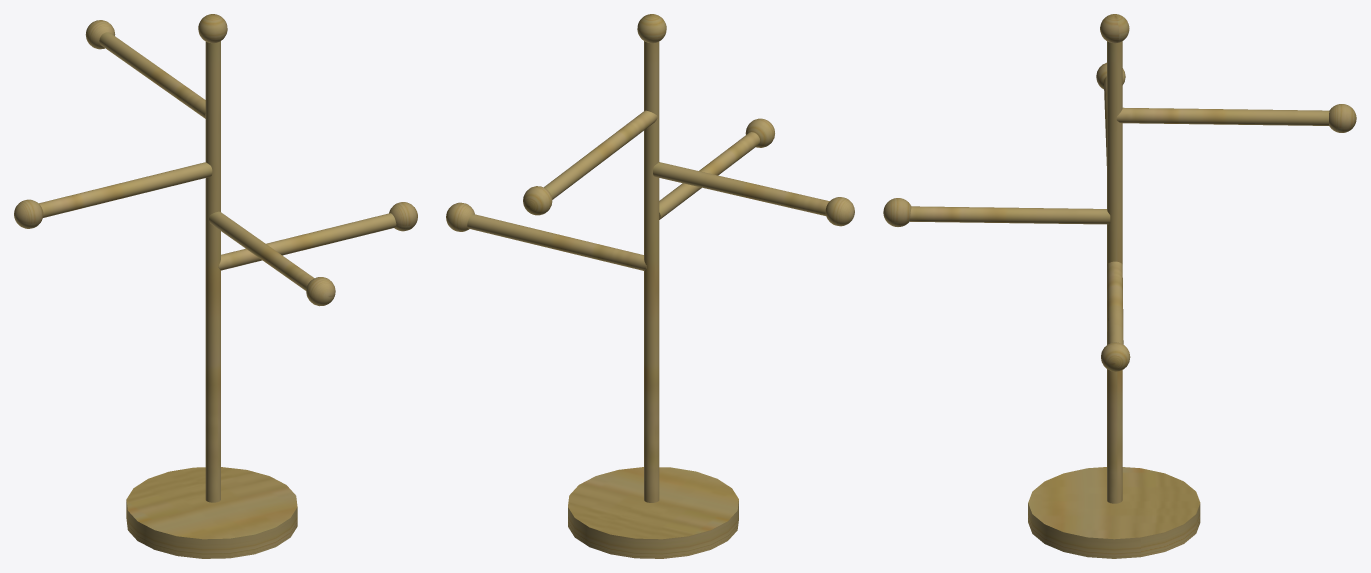
Rendered from ClothesRack.obj.
The picture shows the model from 3 angles, left to right: view 1: azimuth 30°, elevation 25°; view 2: azimuth 150°, elevation 25°; view 3: azimuth 270°, elevation 25°; orthographic projection.
Parts seen in each view (by area): view 1: pCylinder7; view 2: pCylinder7; view 3: pCylinder7.
Boxes of the visible parts, x1,y1,x2,y2 form: pCylinder7: (14,14,417,558); pCylinder7: (446,14,854,558); pCylinder7: (883,14,1356,558).
Bounding box in the file's own units: 4.77 × 5.74 × 4.85.
